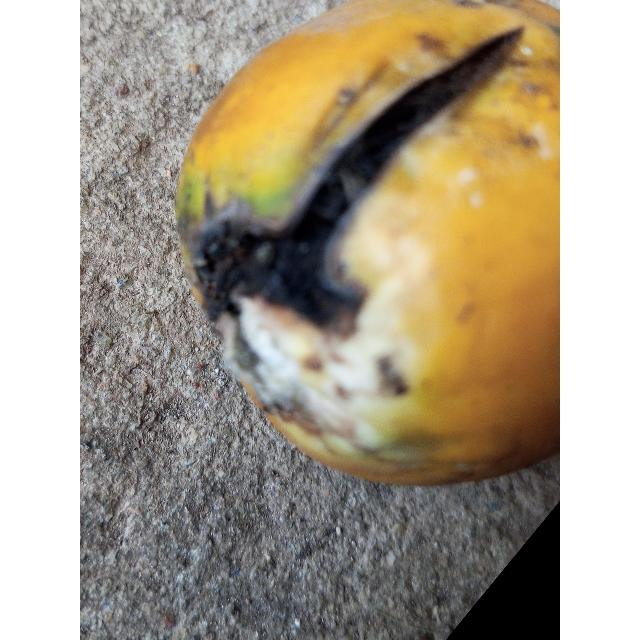damaged: (176, 0, 560, 485)
